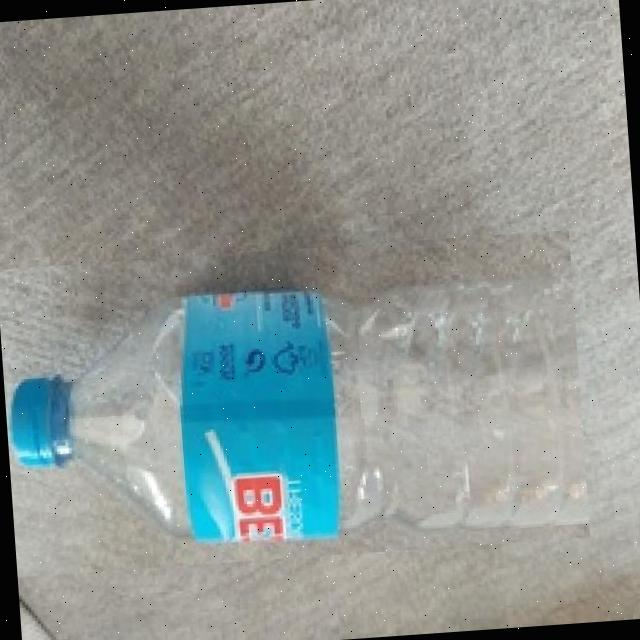bottle: (0, 228, 589, 575)
cap: (3, 372, 75, 476)
label: (174, 264, 348, 560)
